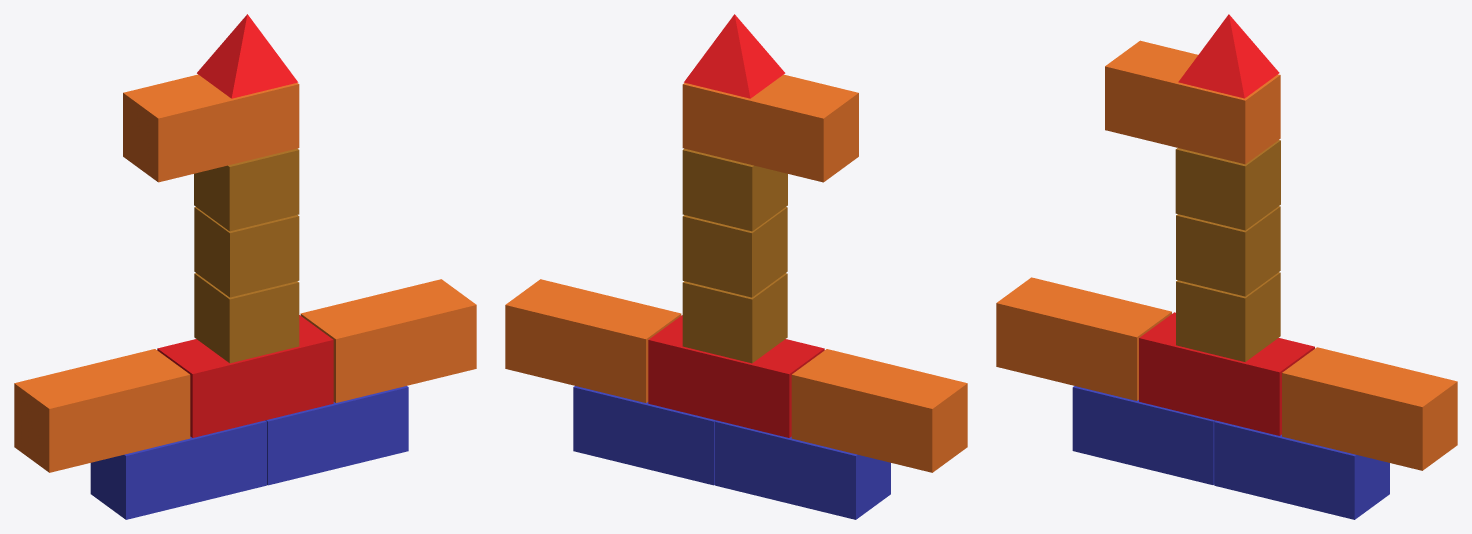
3 renders of one model, left to right at view 1: azimuth 30°, elevation 25°; view 2: azimuth 150°, elevation 25°; view 3: azimuth 330°, elevation 25°, orthographic.
Parts seen in each view (by area): view 1: node_id14, node_id29, node_id32, node_id26, node_id5, node_id8, node_id20, node_id17, node_id11, node_id23; view 2: node_id14, node_id29, node_id32, node_id26, node_id5, node_id8, node_id20, node_id17, node_id11, node_id23; view 3: node_id29, node_id14, node_id32, node_id26, node_id8, node_id5, node_id11, node_id20, node_id17, node_id23.
Part boxes in pixels (x1,y1,x2,y2): node_id14: (14,349,190,472); node_id29: (300,279,476,402); node_id32: (123,74,299,182); node_id26: (157,315,333,437); node_id5: (90,420,266,519); node_id8: (265,386,408,485); node_id20: (194,207,299,297); node_id17: (194,273,299,363); node_id11: (194,148,299,231); node_id23: (197,14,298,98); node_id14: (791,349,967,472); node_id29: (505,279,681,402); node_id32: (682,74,858,182); node_id26: (648,315,824,437); node_id5: (715,420,890,519); node_id8: (573,386,716,485); node_id20: (682,207,787,297); node_id17: (682,273,787,363); node_id11: (682,148,787,231); node_id23: (684,14,785,98); node_id29: (1282,347,1457,470); node_id14: (996,277,1171,400); node_id32: (1105,40,1280,164); node_id26: (1139,312,1314,435); node_id8: (1214,420,1389,519); node_id5: (1072,386,1215,484); node_id11: (1175,140,1280,230); node_id20: (1176,206,1280,296); node_id17: (1176,272,1280,361); node_id23: (1178,14,1279,98).
Size of the model in its own units: 0.4984 by 0.512 by 0.0718.
Materials: 10 (10 with a texture image).
